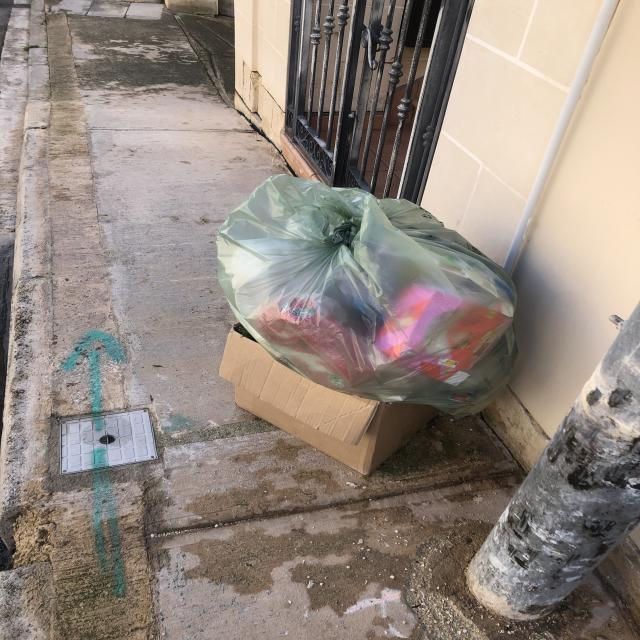Other: (209, 343, 394, 477)
Recycled Waste -Grey or Green Bag-: (223, 175, 512, 419)
